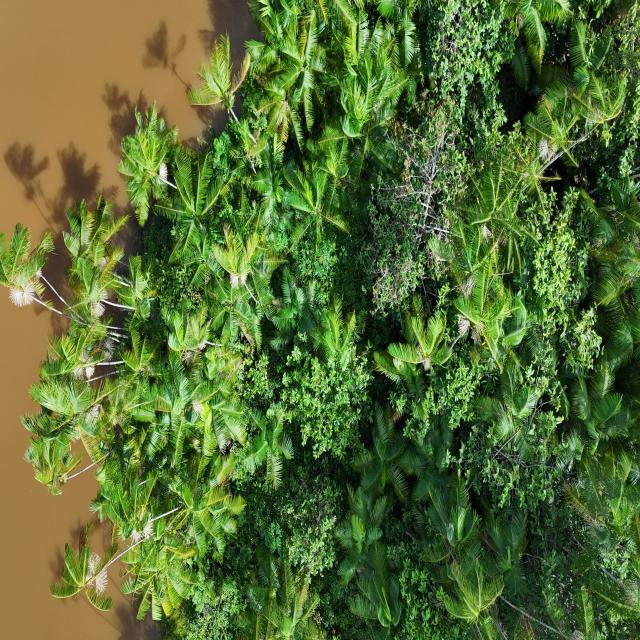vegetation: (2, 1, 638, 638)
